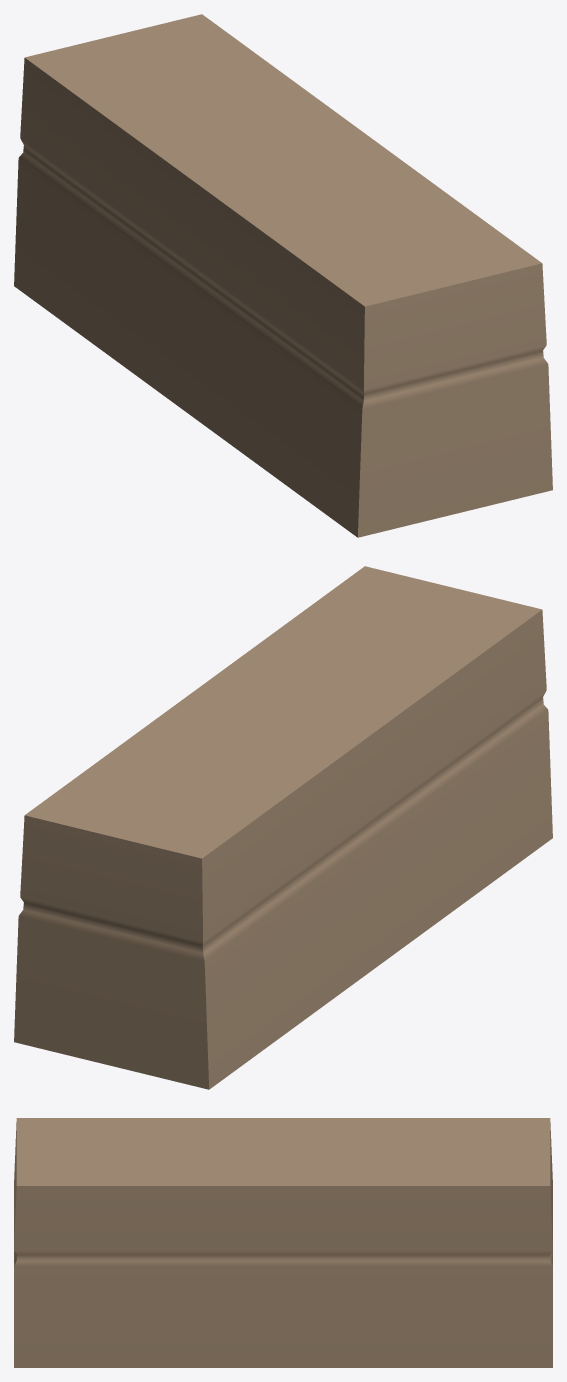
The model's file is egypt_columntop.fbx.
3 views of the same model, one above another, from view 1: azimuth 30°, elevation 25°; view 2: azimuth 150°, elevation 25°; view 3: azimuth 270°, elevation 25° (orthographic). The views are drawn at different scales.
Parts seen in each view (by area): view 1: column_top; view 2: column_top; view 3: column_top.
Part boxes in pixels (x1,y1,x2,y2): column_top: (14, 14, 552, 537); column_top: (14, 566, 552, 1089); column_top: (14, 1118, 552, 1367).
Bounding box in the file's own units: 0.916 × 1.02 × 2.79.
